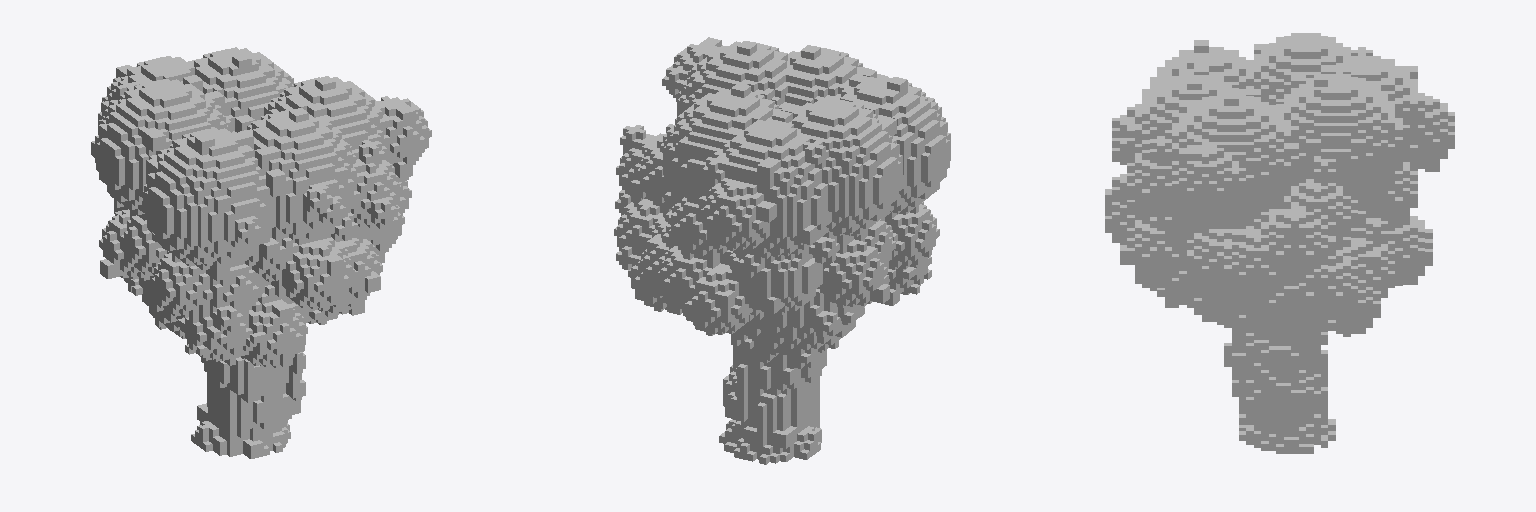
File: tree.obj
The picture shows the model from 3 angles: view 1: azimuth 30°, elevation 25°; view 2: azimuth 150°, elevation 25°; view 3: azimuth 270°, elevation 25°; orthographic projection.
Parts seen in each view (by area): view 1: object 1; view 2: object 1; view 3: object 1.
Part boxes in pixels (x1,y1,x2,y2): object 1: (91, 47, 431, 458); object 1: (614, 37, 950, 464); object 1: (1105, 33, 1454, 453).
Size of the model in its own units: 4.2 by 5.4 by 4.7.